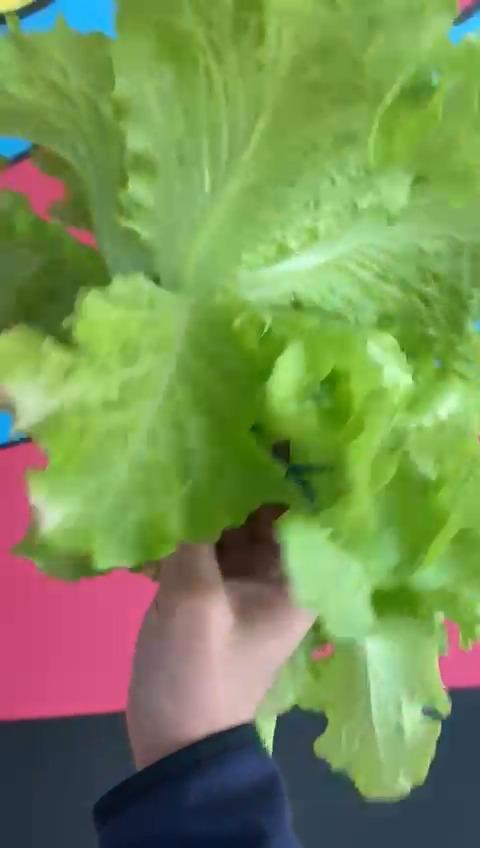Healthy Lettuce: (0, 0, 480, 800)
